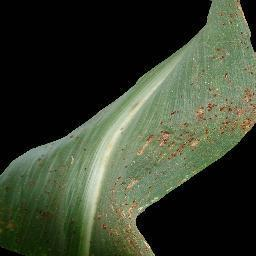Corn_Common_Rust: (189, 0, 256, 163), (0, 131, 75, 256), (93, 147, 145, 256), (147, 108, 189, 204), (126, 97, 143, 116), (81, 144, 91, 175), (146, 235, 159, 256), (115, 125, 129, 137)
